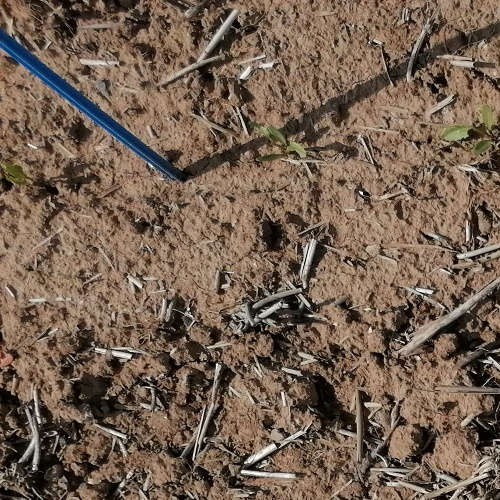beet: (440, 103, 500, 158), (265, 127, 308, 157), (0, 161, 25, 187)
